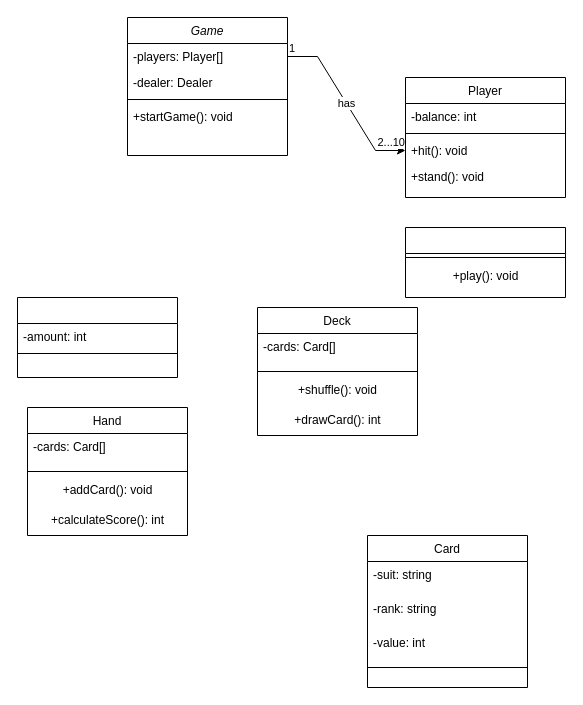
This 583x705 diagram has some shape labels left out. The box of each missing label's shape, as (x1, y1, x2, y2) in pixels:
Bet: (16, 296, 178, 378)
Dealer: (404, 226, 566, 298)
